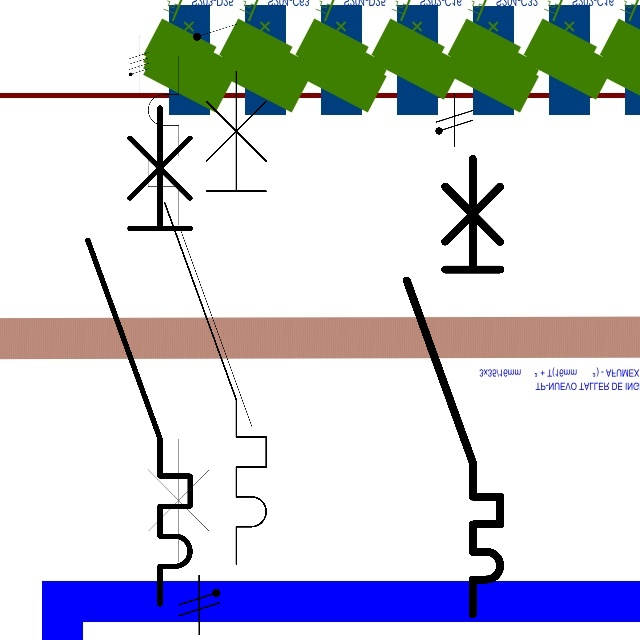interruptor_termomagnetico: (135, 43, 265, 574), (75, 95, 203, 617), (152, 58, 279, 577), (395, 147, 512, 626)
